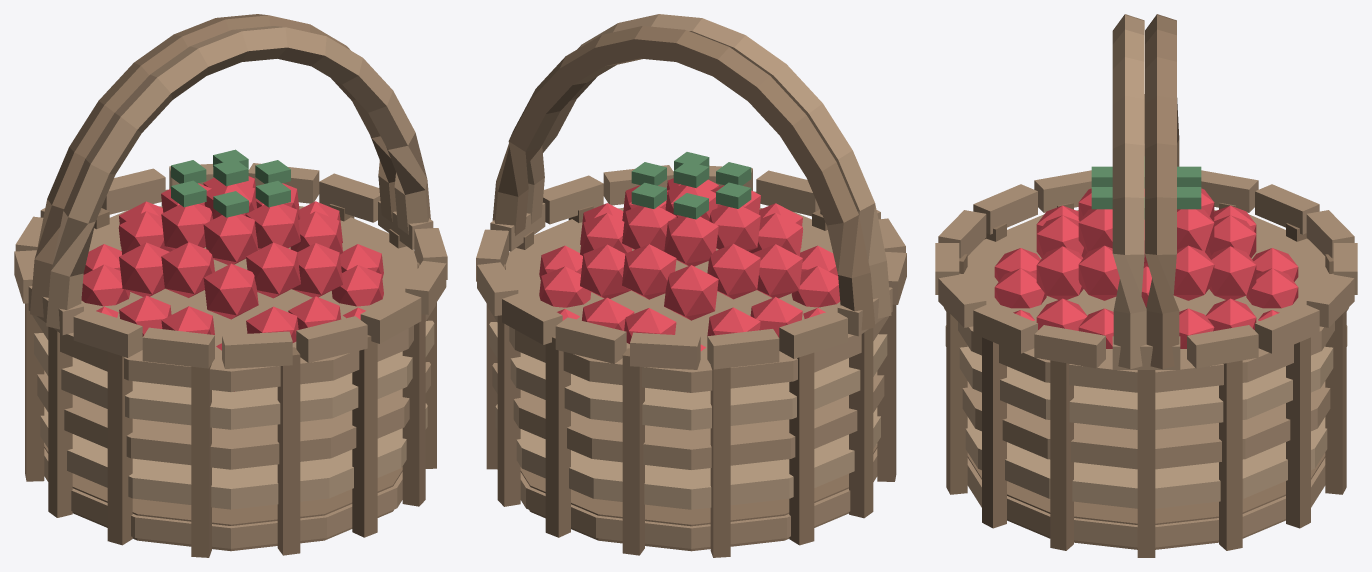
File: strawberry_basket_v1.glb
3 renders of one model, left to right at view 1: azimuth 30°, elevation 25°; view 2: azimuth 150°, elevation 25°; view 3: azimuth 270°, elevation 25°, orthographic.
Visible parts, largest first — view 1: HandleBar.0, Ring.4, Ring.2, Ring.3, Ring.1, HandleBar.1, Ring.0, Base, Stake.11, Stake.10, Stake.8, Stake.9 (+43 smaller); view 2: HandleBar.1, Ring.4, Ring.3, Ring.2, Ring.1, HandleBar.0, Ring.0, Base, Stake.3, Stake.4, Stake.6, Stake.5 (+43 smaller); view 3: Ring.4, HandleBar.0, HandleBar.1, Ring.2, Ring.3, Ring.1, Ring.0, Base, Stake.1, Stake.13, Stake.2, Stake.12 (+36 smaller).
Part boxes in pixels (x1,y1,x2,y2): HandleBar.0: [46, 26, 430, 329]; Ring.4: [32, 206, 435, 391]; Ring.2: [37, 362, 430, 469]; Ring.3: [34, 320, 434, 429]; Ring.1: [40, 403, 427, 509]; HandleBar.1: [30, 14, 396, 317]; Ring.0: [44, 443, 402, 548]; Base: [44, 444, 402, 551]; Stake.11: [352, 335, 377, 537]; Stake.10: [277, 347, 300, 555]; Stake.8: [107, 351, 132, 545]; Stake.9: [191, 364, 211, 557]; HandleBar.1: [492, 26, 875, 330]; Ring.4: [487, 208, 888, 392]; Ring.3: [489, 322, 887, 430]; Ring.2: [492, 363, 884, 469]; Ring.1: [495, 404, 880, 509]; HandleBar.0: [526, 14, 891, 318]; Ring.0: [520, 443, 877, 548]; Base: [520, 444, 877, 551]; Stake.3: [545, 336, 570, 537]; Stake.4: [622, 348, 644, 555]; Stake.6: [789, 352, 814, 545]; Stake.5: [710, 365, 730, 557]; Ring.4: [944, 210, 1348, 392]; HandleBar.0: [1112, 14, 1146, 369]; HandleBar.1: [1145, 14, 1179, 369]; Ring.2: [962, 381, 1330, 469]; Ring.3: [945, 325, 1347, 429]; Ring.1: [965, 417, 1327, 508]; Ring.0: [967, 458, 1325, 547]; Base: [967, 453, 1325, 549]; Stake.1: [1219, 360, 1242, 550]; Stake.13: [1050, 360, 1073, 550]; Stake.2: [1286, 337, 1310, 528]; Stake.12: [982, 337, 1006, 528].
Bounding box in the file's own units: 0.2739 × 0.3045 × 0.263.
